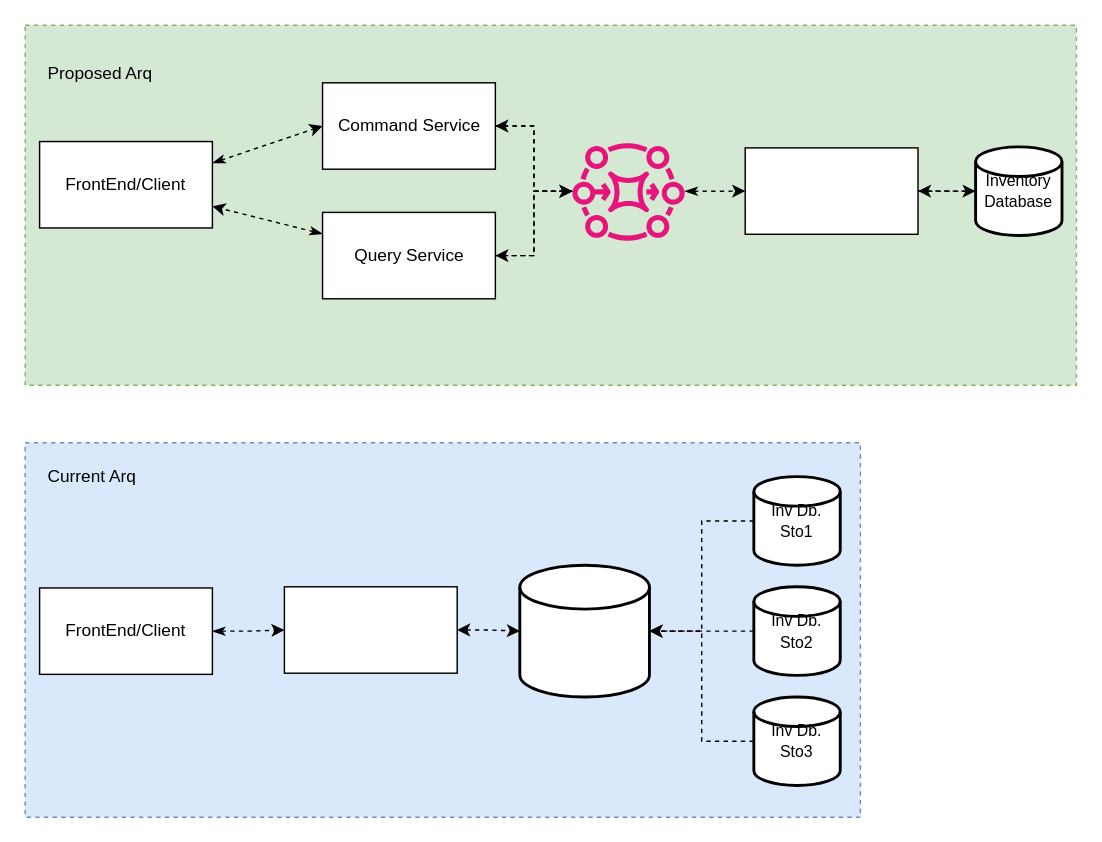
Some shapes in this 1102 by 842 pixel diagram are drawn without their labels. The shapes that lost their labels are listed below. From the top down, each one's centre as x and y in pixels, then its label:
the point at 628,190: Broker EDA
the point at 831,190: Listener Service
the point at 370,629: Backend monolithic
the point at 584,630: Central Inventory Database
